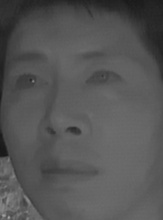eye: (13, 68, 49, 94), (84, 66, 123, 90)
mouth: (37, 152, 100, 191)
